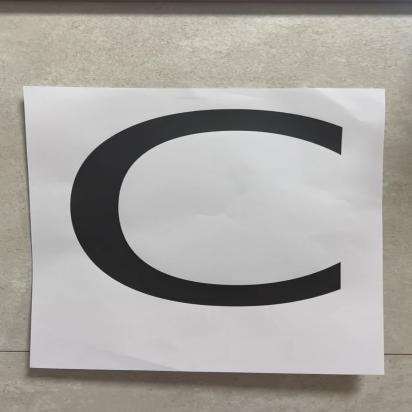seat: (28, 83, 375, 368)
